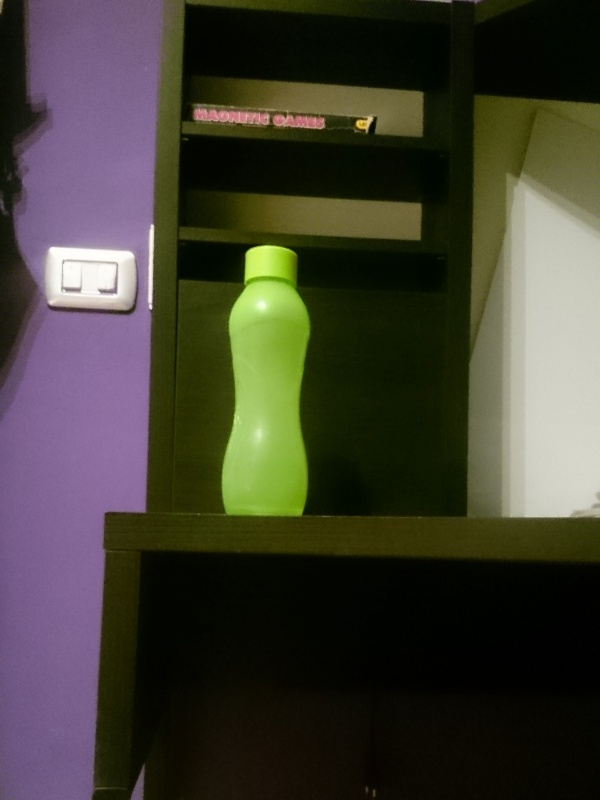my bottle: (218, 245, 311, 516)
